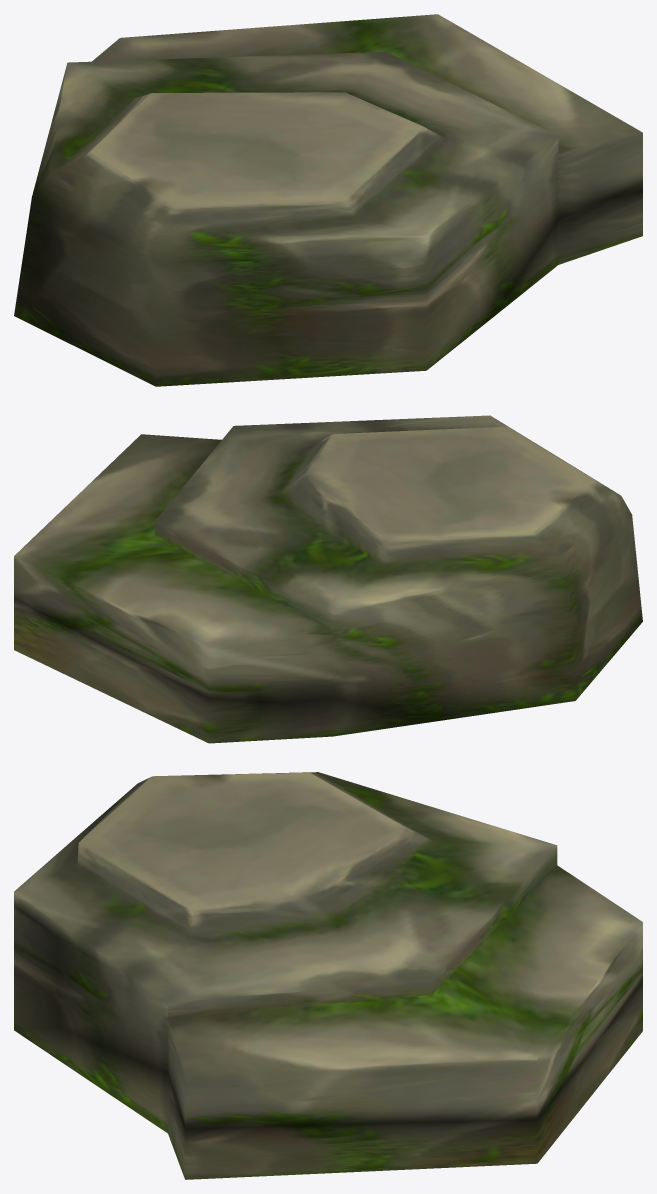
Rendered from RockFormation_4_5 (20).fbx.
The picture shows the model from 3 angles, top to bottom: view 1: azimuth 30°, elevation 25°; view 2: azimuth 150°, elevation 25°; view 3: azimuth 270°, elevation 25°; orthographic projection. The views are drawn at different scales.
Visible parts, largest first — view 1: RockFormation_4_5 (20); view 2: RockFormation_4_5 (20); view 3: RockFormation_4_5 (20).
Part boxes in pixels (box(x1,y1,x2,y2)): RockFormation_4_5 (20): box(14, 14, 642, 386); RockFormation_4_5 (20): box(14, 415, 642, 743); RockFormation_4_5 (20): box(14, 772, 642, 1179).
Bounding box in the file's own units: 435 × 119 × 419.
